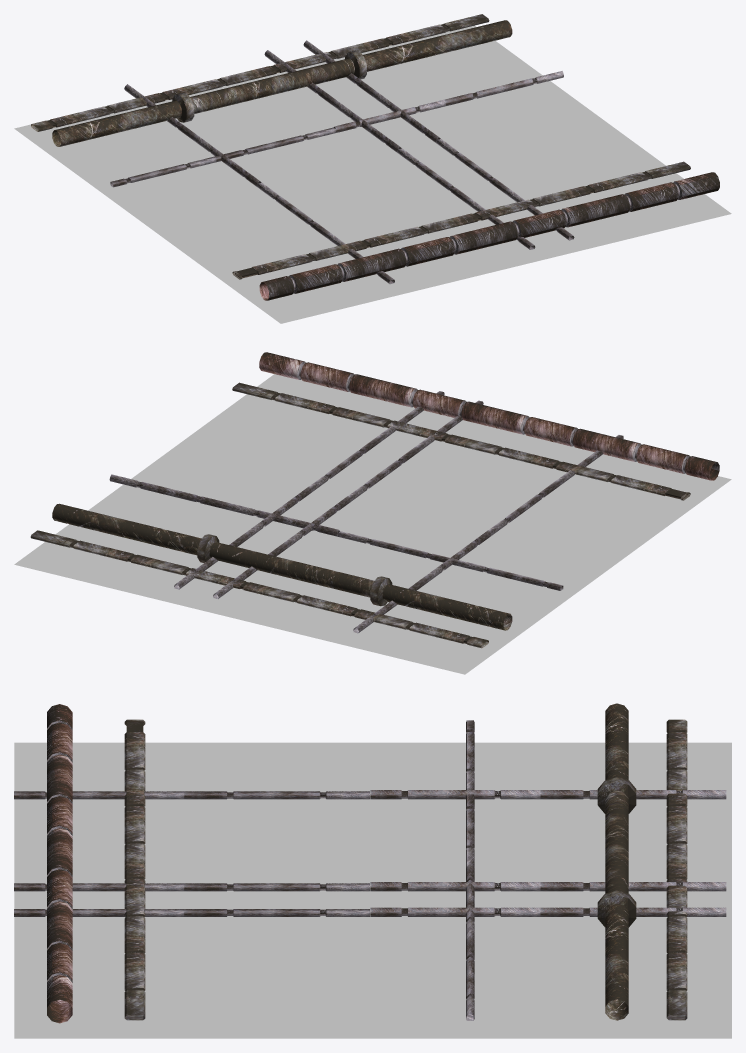
Rendered from MetalCeilingVer_2.fbx.
The picture shows the model from 3 angles, top to bottom: view 1: azimuth 30°, elevation 25°; view 2: azimuth 150°, elevation 25°; view 3: azimuth 270°, elevation 25°; orthographic projection. The views are drawn at different scales.
Visible parts, largest first — view 1: polySurface551; view 2: polySurface551; view 3: polySurface551.
Part boxes in pixels (x1,y1,x2,y2): polySurface551: [14, 14, 731, 323]; polySurface551: [14, 352, 731, 674]; polySurface551: [14, 703, 731, 1038].
Bounding box in the file's own units: 146 × 10.65 × 149.
